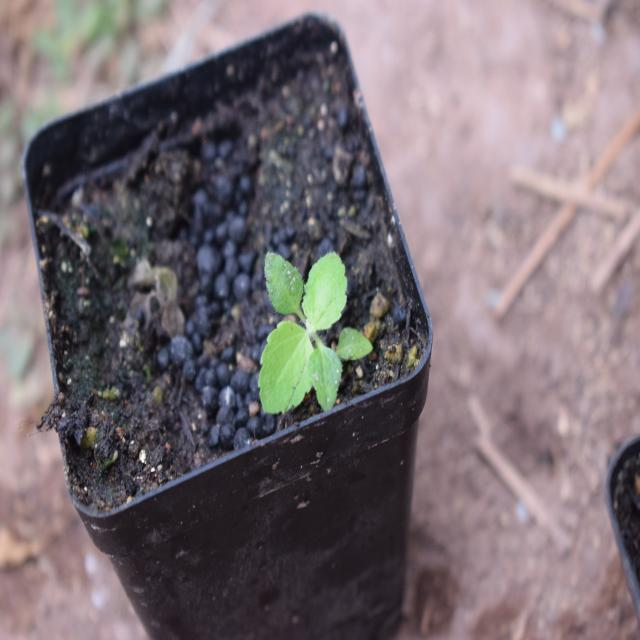billygoat_weed: (228, 233, 370, 408)
